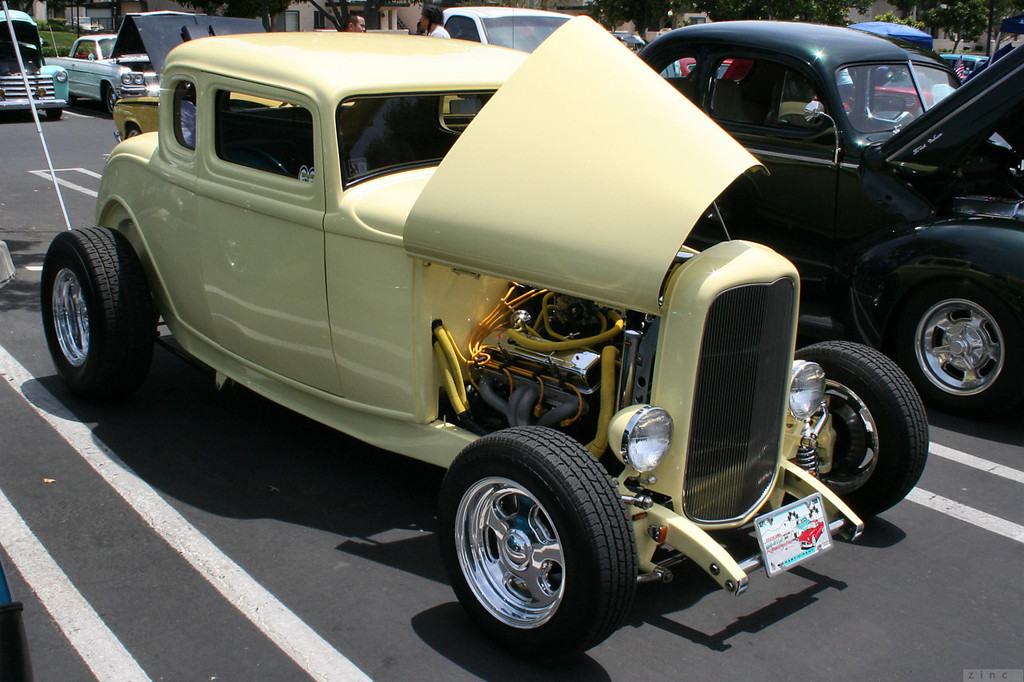Car: (42, 9, 928, 664), (499, 9, 976, 413), (109, 1, 263, 143), (0, 0, 64, 116), (50, 37, 149, 111), (438, 3, 563, 57)
